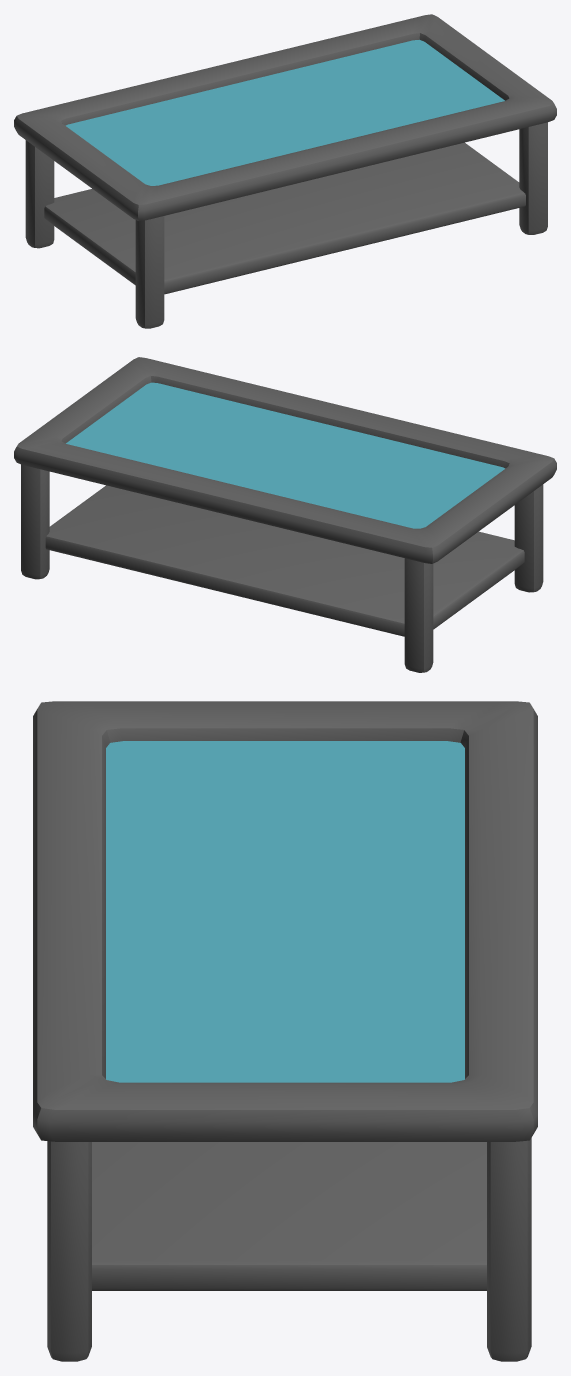
The model's file is SM_table_small_03.fbx.
3 renders of one model, top to bottom at view 1: azimuth 30°, elevation 25°; view 2: azimuth 150°, elevation 25°; view 3: azimuth 270°, elevation 25°, orthographic. The views are drawn at different scales.
Visible parts, largest first — view 1: Box356; view 2: Box356; view 3: Box356.
Boxes of the visible parts, <box> form: Box356: <box>14,14,556,328</box>; Box356: <box>14,357,556,672</box>; Box356: <box>33,701,537,1361</box>.
Size of the model in its own units: 98.03 by 29.26 by 50.72.
